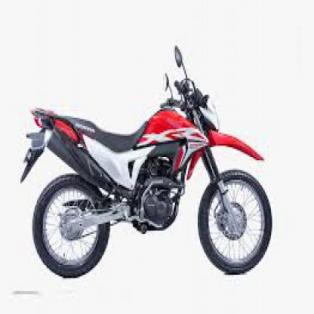Motocicleta: (22, 51, 274, 282)
